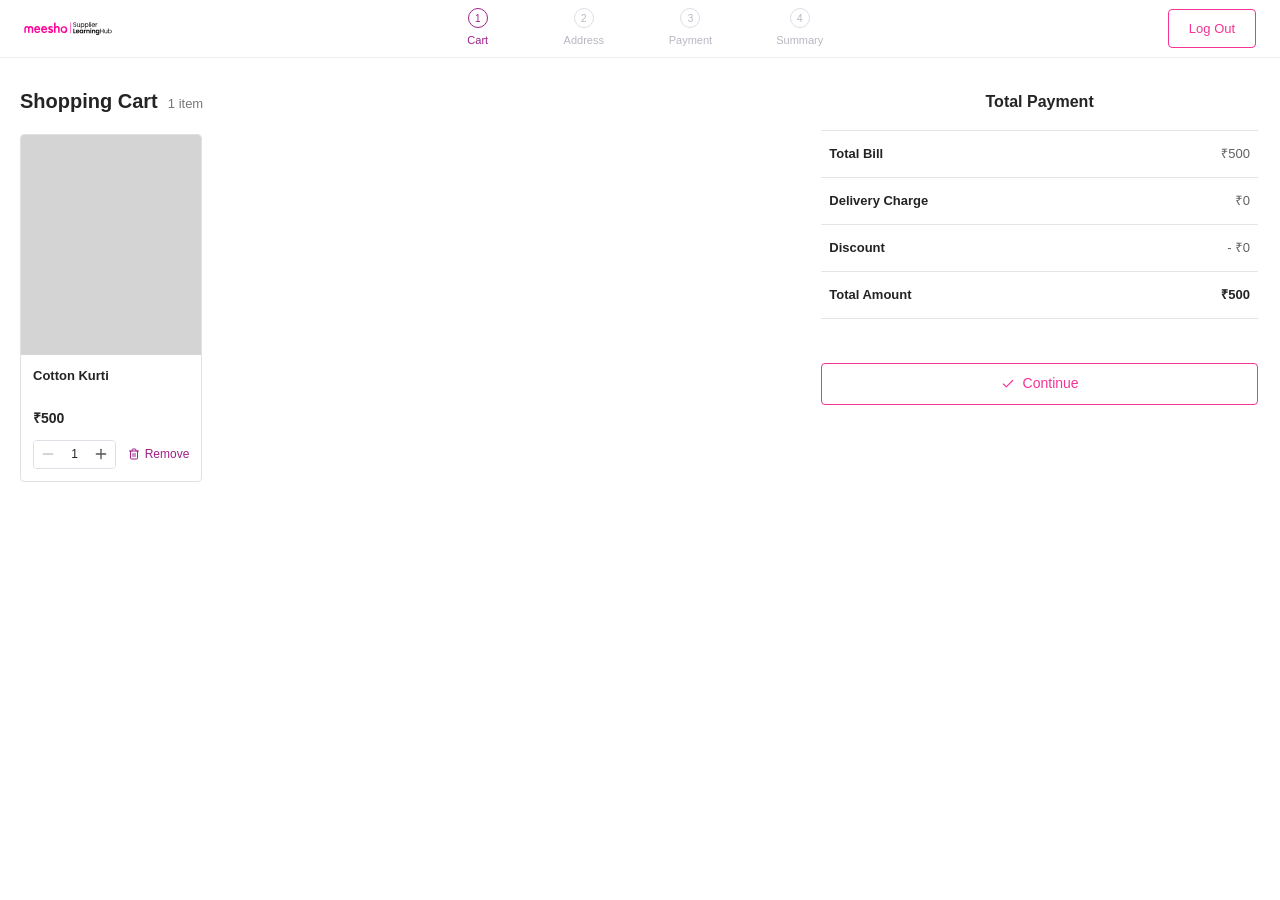
Test: customer critical flows › keeps the cart and reports failed order creation
The width and height of the screenshot is (1280, 900).
Step 1. Click the button "Continue" → (1040, 384), box [821,362,1258,404]
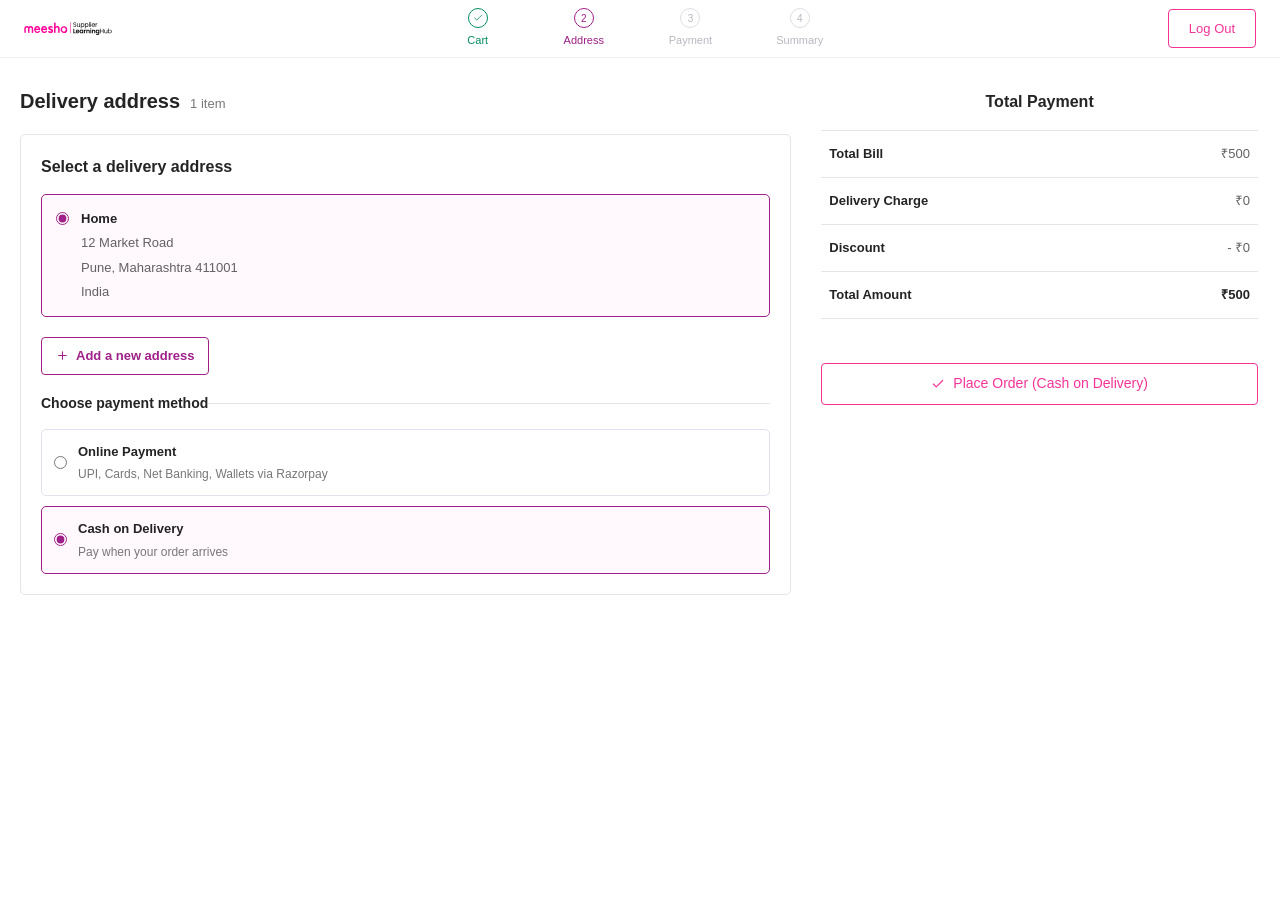
Step 2. Click the button "Place Order (Cash on Delivery)" → (1040, 384), box [821,362,1258,404]
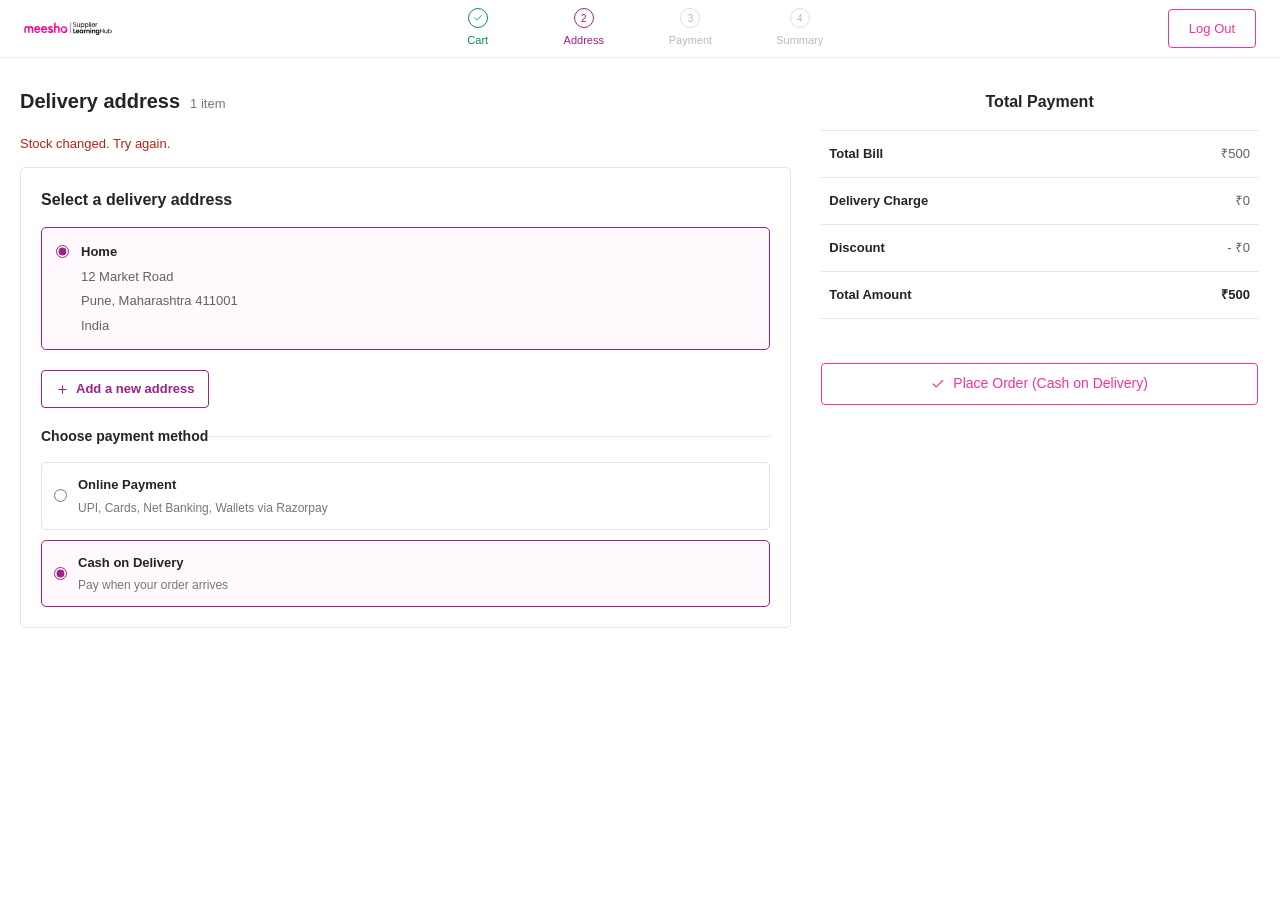
Expected: the text "1 item" is shown, [190,94,226,113]
Expected: the message reads "Stock changed. Try again.", [20,136,170,150]
